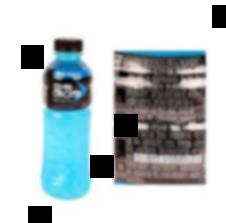powerade_mountainblast: (39, 33, 94, 202)
